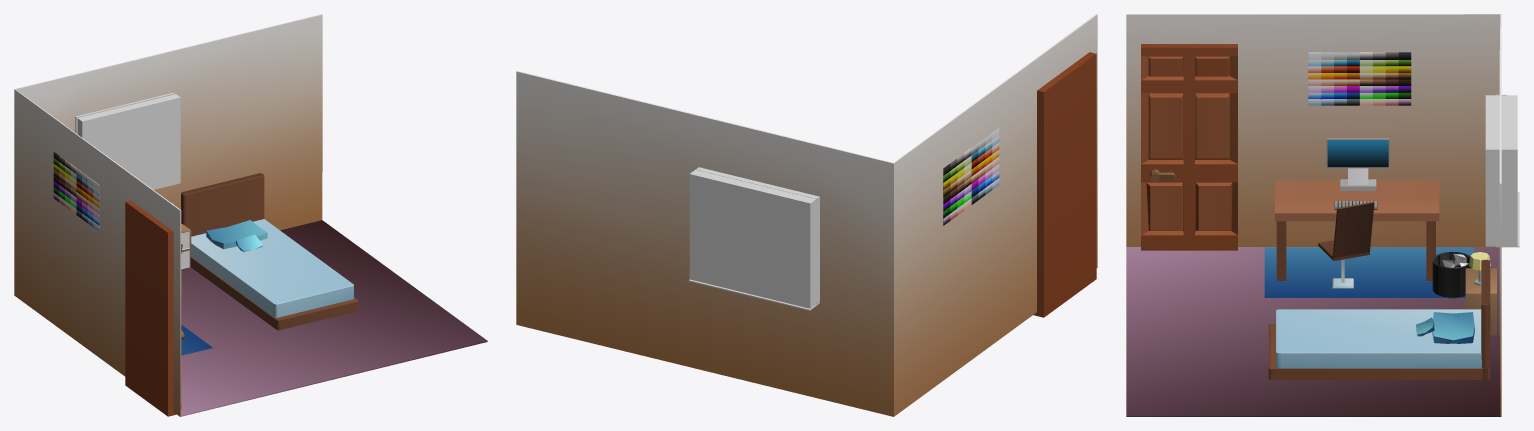
Rendered from Room.fbx.
3 views of the same model, side by side, from view 1: azimuth 30°, elevation 25°; view 2: azimuth 150°, elevation 25°; view 3: azimuth 270°, elevation 25° (orthographic). The views are drawn at different scales.
Parts seen in each view (by area): view 1: room, Door, mattress, CTRL_Hole.001, Bed, Portrait, Pillow, FootMate; view 2: room, CTRL_Hole.001, Door, Portrait; view 3: room, Door, mattress, FootMate, tabel, Portrait, CTRL_Hole.001, Bed, Monitor, Chair, Dustbin, Pillow (+1 smaller).
Boxes of the visible parts, box(x1,y1,x2,y2) form: room: box(14, 14, 487, 416); Door: box(125, 200, 181, 416); mattress: box(191, 219, 353, 317); CTRL_Hole.001: box(76, 93, 180, 189); Bed: box(181, 173, 358, 330); Portrait: box(53, 152, 99, 231); Pillow: box(206, 220, 267, 249); FootMate: box(181, 325, 212, 355); room: box(516, 14, 1097, 416); CTRL_Hole.001: box(689, 167, 819, 308); Door: box(1033, 52, 1096, 317); Portrait: box(943, 128, 999, 225); room: box(1126, 14, 1501, 416); Door: box(1141, 44, 1237, 250); mattress: box(1276, 309, 1481, 368); FootMate: box(1264, 247, 1473, 297); tabel: box(1275, 180, 1439, 280); Portrait: box(1308, 52, 1411, 105); CTRL_Hole.001: box(1485, 95, 1517, 246); Bed: box(1268, 260, 1490, 379); Monitor: box(1326, 138, 1389, 190); Chair: box(1318, 202, 1374, 288); Dustbin: box(1432, 251, 1470, 298); Pillow: box(1432, 312, 1474, 343).
Bounding box in the file's own units: 381 × 246 × 367.
2 materials, 1 textured.
